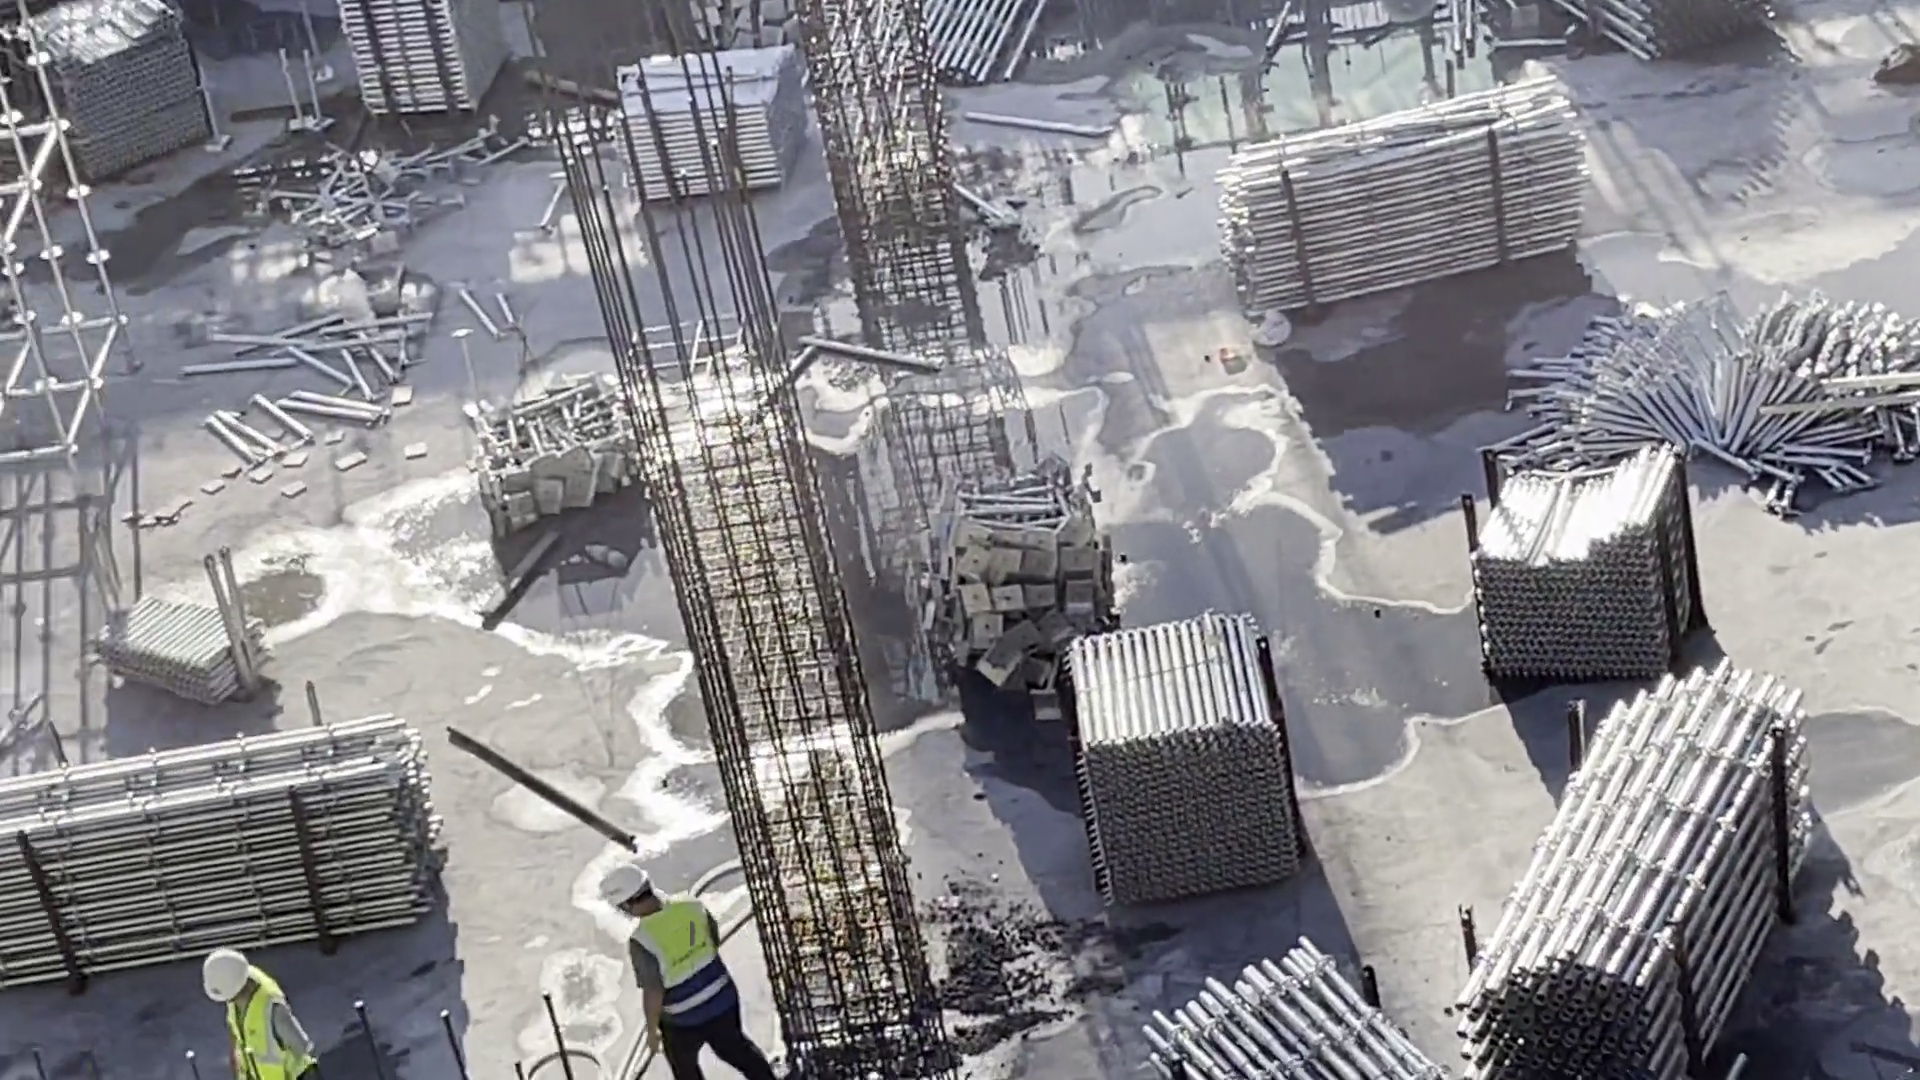helmet: (203, 952, 255, 1002), (594, 871, 653, 904)
person: (592, 865, 778, 1079), (196, 942, 318, 1080)
scaffold: (1464, 693, 1829, 1080), (1, 747, 481, 927), (1259, 92, 1589, 307), (1548, 307, 1907, 502), (1476, 447, 1704, 713), (1063, 629, 1299, 815), (21, 8, 212, 180), (1149, 965, 1397, 1080), (613, 55, 785, 179), (351, 1, 495, 123), (113, 594, 263, 695), (845, 1, 1015, 82)
vest: (625, 917, 730, 1025), (227, 998, 299, 1080)
